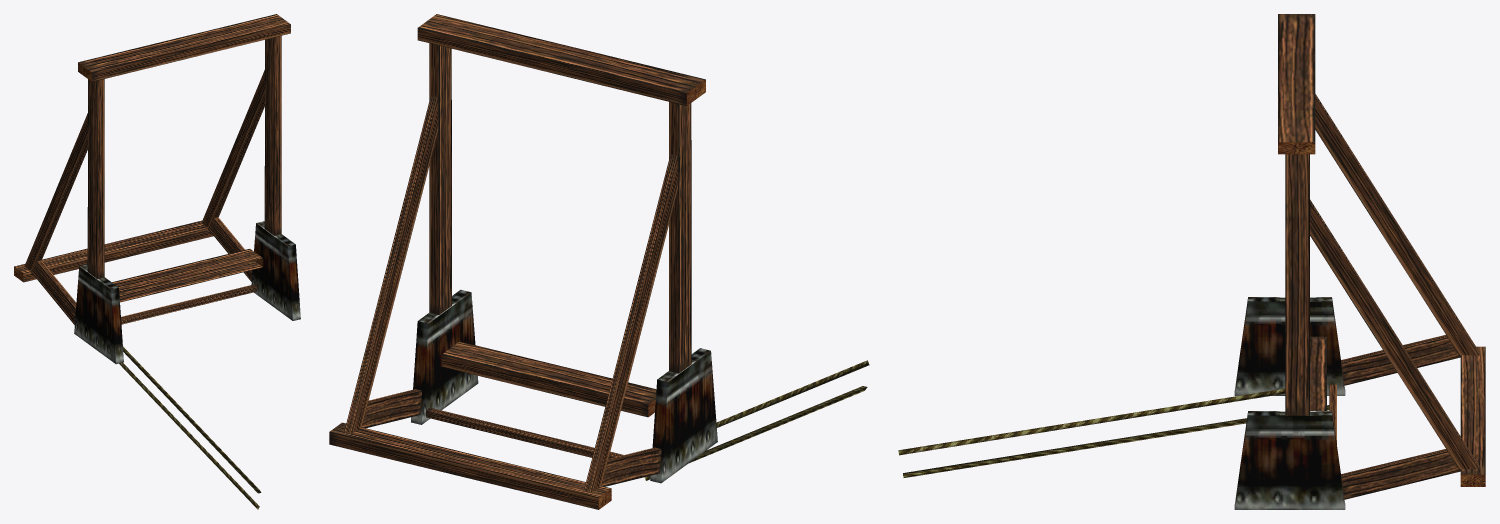
The model's file is LAKETOWN_EXTERIOR_PS_LT_RAMP_BRACW__GX.fbx.
3 views of the same model, side by side, from view 1: azimuth 30°, elevation 25°; view 2: azimuth 150°, elevation 25°; view 3: azimuth 270°, elevation 25° (orthographic). The views are drawn at different scales.
Visible parts, largest first — view 1: LAKETOWN_EXTERIOR_PS_LT_RAMP_BRACW__GX; view 2: LAKETOWN_EXTERIOR_PS_LT_RAMP_BRACW__GX; view 3: LAKETOWN_EXTERIOR_PS_LT_RAMP_BRACW__GX.
Part boxes in pixels (bbox=[...]): LAKETOWN_EXTERIOR_PS_LT_RAMP_BRACW__GX: bbox=[14, 14, 300, 509]; LAKETOWN_EXTERIOR_PS_LT_RAMP_BRACW__GX: bbox=[329, 14, 869, 509]; LAKETOWN_EXTERIOR_PS_LT_RAMP_BRACW__GX: bbox=[898, 14, 1485, 509].
Size of the model in its own units: 35678 by 58016 by 68842.
4 materials, 4 textured.
